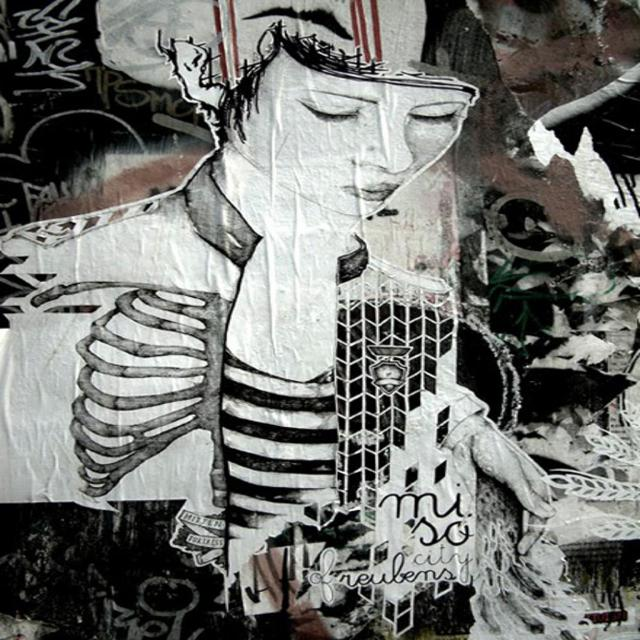nomask: (285, 41, 465, 218)
